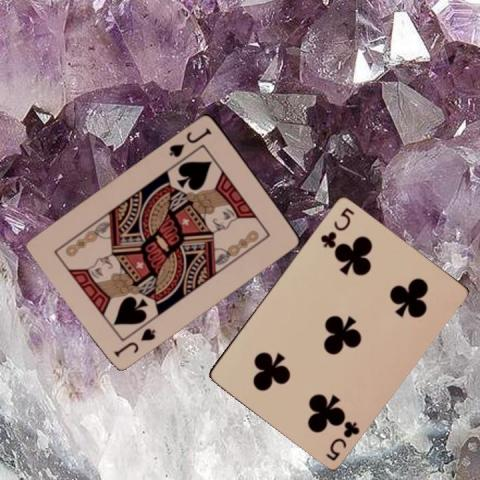5c: (317, 204, 356, 249), (323, 417, 361, 462)
Js: (166, 124, 213, 159), (111, 324, 157, 359)
